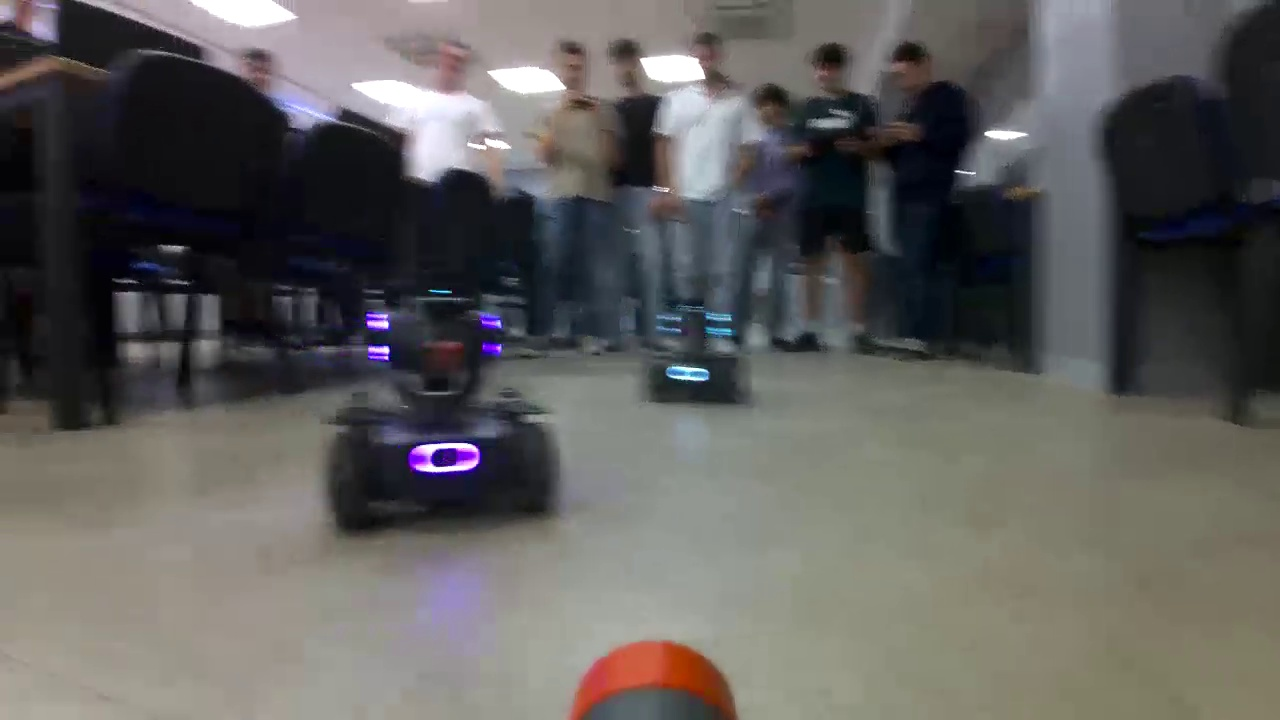robot: (330, 288, 558, 533), (647, 296, 740, 407)
